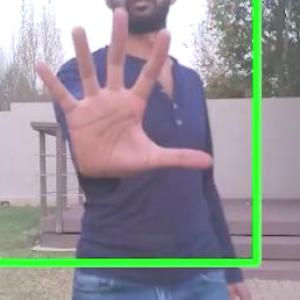follow_hand: (30, 7, 214, 184)
